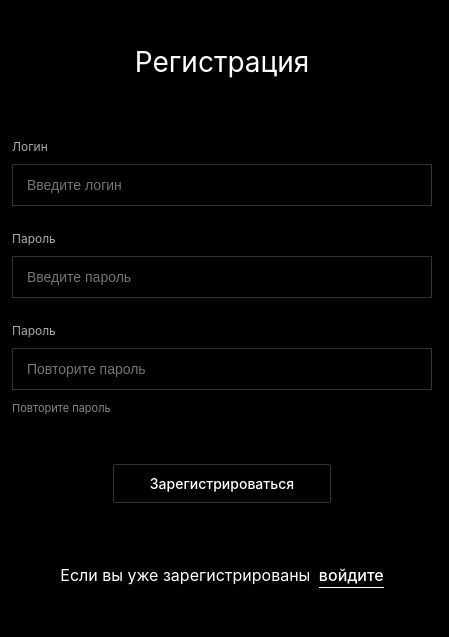
Test case: валидация RegisterPage › показывает ошибки для короткого логина и слабого пароля
This screenshot has width=449, height=637.
Type "short" into the field with placeholder "Введите логин" at [222, 185], box x1=12 y1=164 x2=432 y2=206
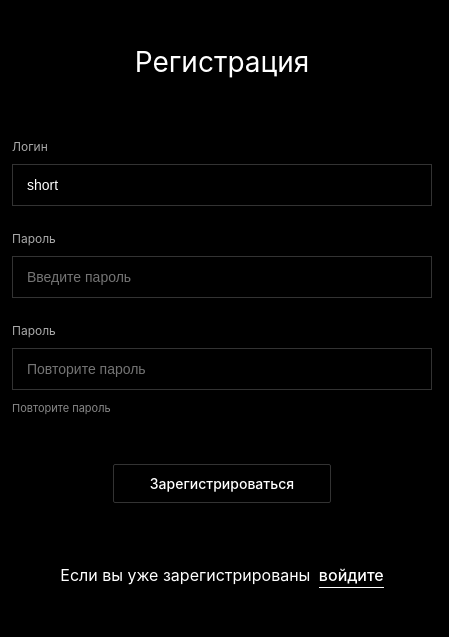
Type "weak" into the password field with placeholder "Введите пароль" at [222, 277], box x1=12 y1=256 x2=432 y2=298
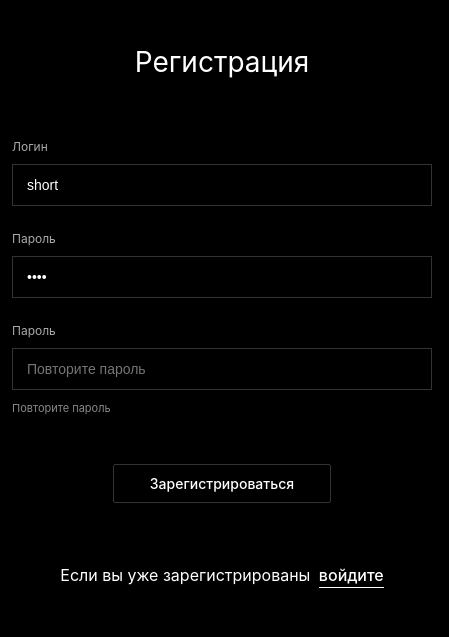
Type "weak" into the password field with placeholder "Повторите пароль" at [222, 369], box x1=12 y1=348 x2=432 y2=390
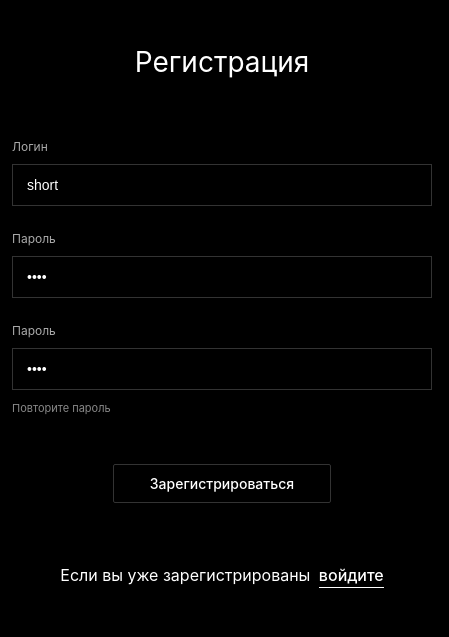
Click the button "Зарегистрироваться" at [222, 484], box x1=113 y1=464 x2=331 y2=503
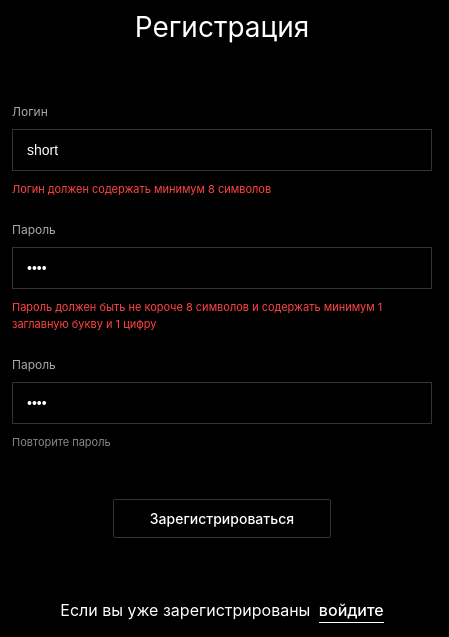
Expected: the text "Логин должен содержать минимум 8 символов" is shown, x1=12 y1=182 x2=271 y2=196
Expected: the text "пароль должен быть не короче 8 символов и содержать минимум 1 заглавную букву и 1 цифру" is shown, x1=12 y1=300 x2=382 y2=331
